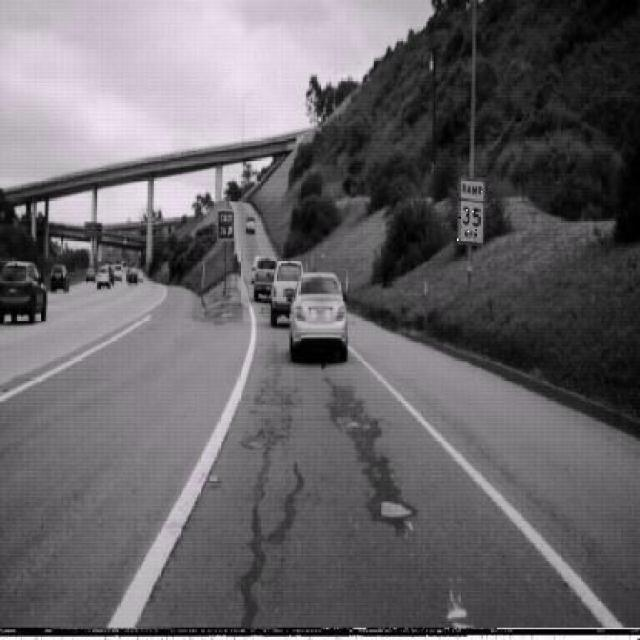rampSpeedAdvisory35: (457, 174, 486, 249)
